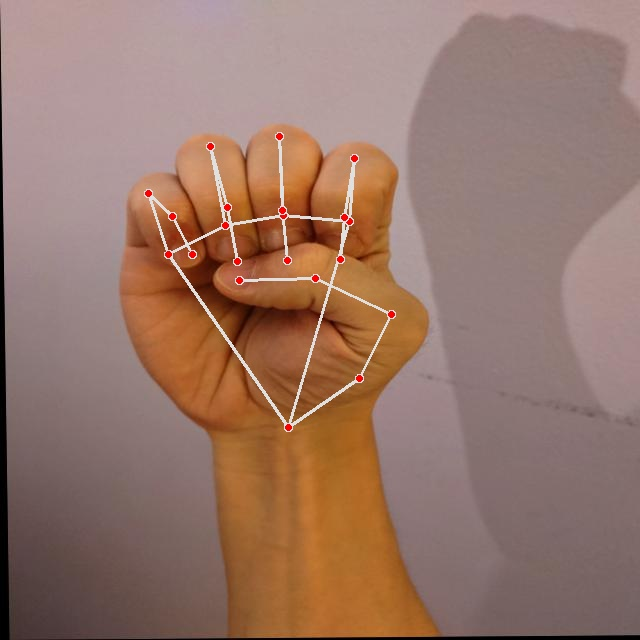E: (110, 119, 436, 439)
